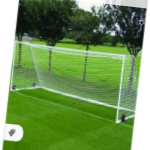goals: (9, 40, 137, 124)
